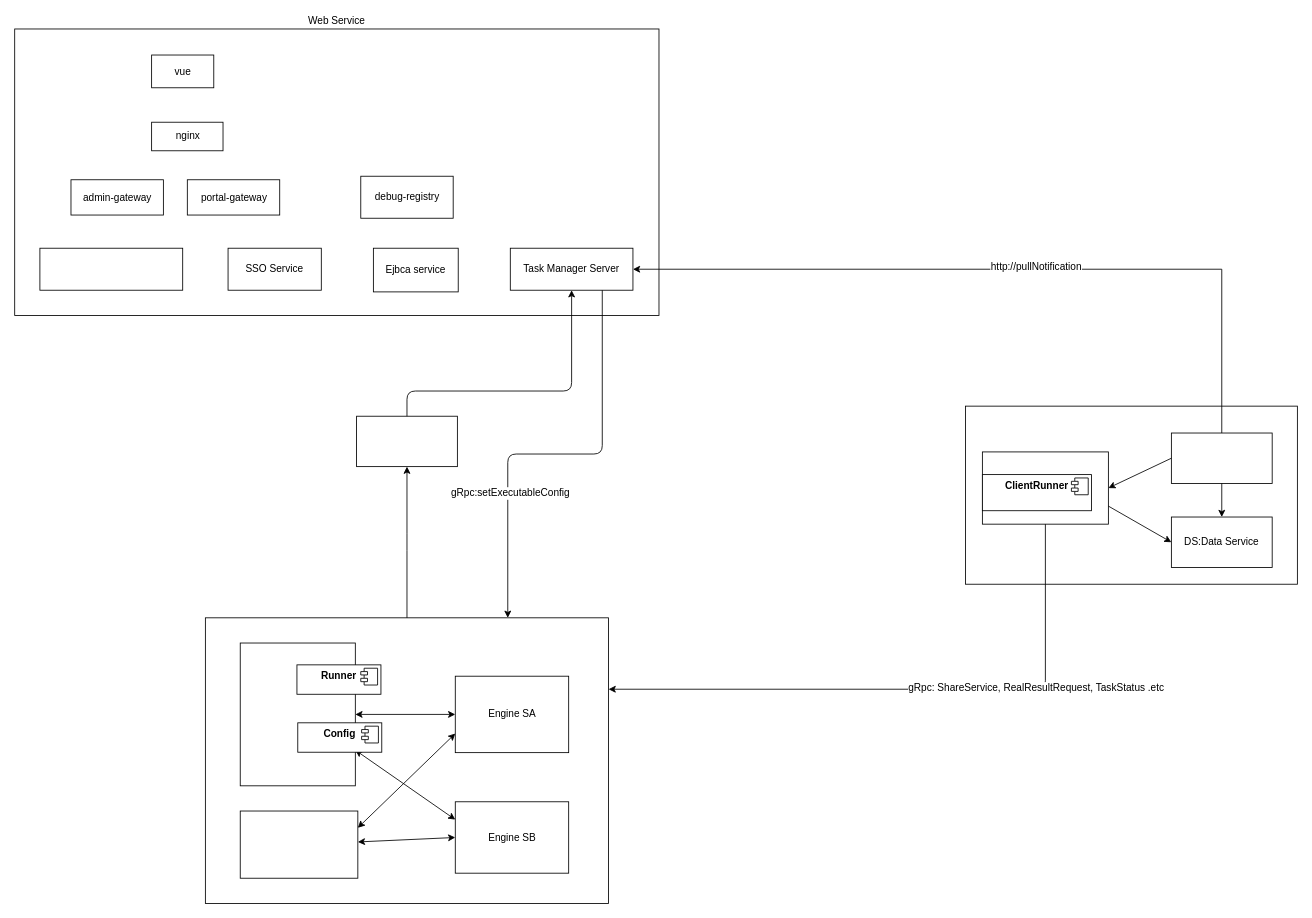
The diagram is 1312 pixels wide and 918 high, and some of its shapes have lost their labels. Here are the shapes that lost their labels. From the top down, the box of each, then its label:
(39, 247, 183, 290): Permision Manage Server
(356, 415, 457, 467): ELK
(1171, 432, 1272, 483): debug-minws:Debug minWeb Service
(982, 451, 1108, 524): Client Service
(965, 405, 1297, 584): Client Data Server
(239, 642, 355, 786): Engine S1
(205, 617, 609, 903): Engine Server
(239, 810, 358, 878): Engine S2
